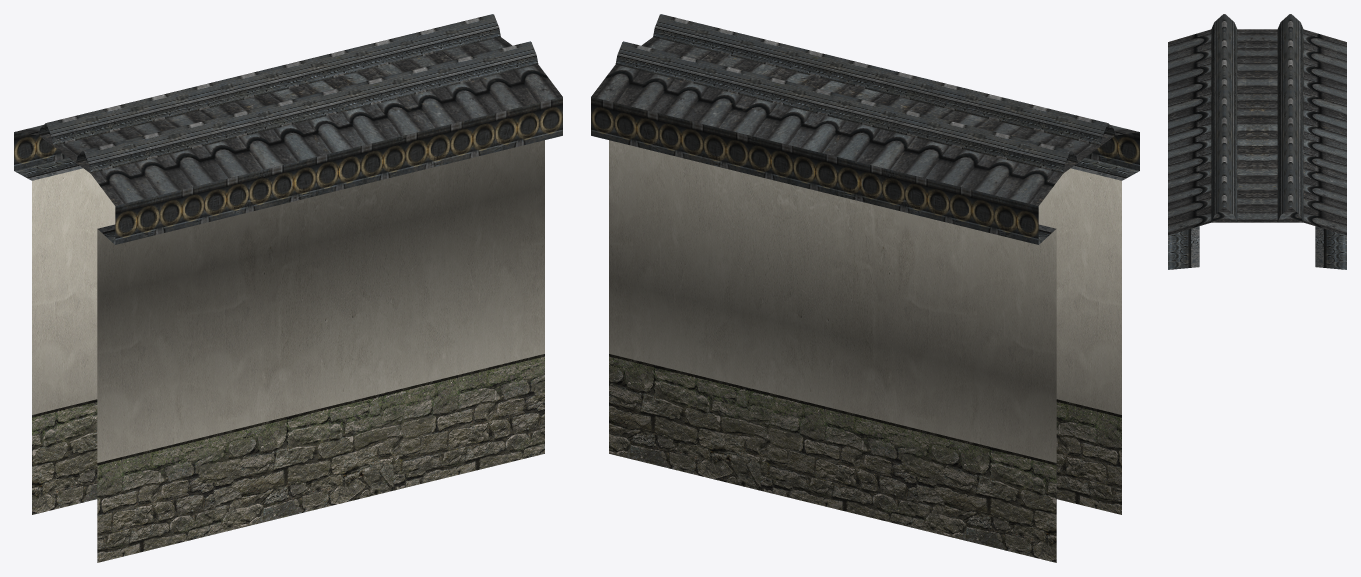
Rendered from japanese_wall_middle.FBX.
The picture shows the model from 3 angles, left to right: view 1: azimuth 30°, elevation 25°; view 2: azimuth 150°, elevation 25°; view 3: azimuth 270°, elevation 25°; orthographic projection. The views are drawn at different scales.
Parts seen in each view (by area): view 1: japanese_wall_middle; view 2: japanese_wall_middle; view 3: japanese_wall_middle.
Part boxes in pixels (x1,y1,x2,y2): japanese_wall_middle: (14, 14, 562, 562); japanese_wall_middle: (591, 14, 1139, 562); japanese_wall_middle: (1168, 14, 1346, 269).
Size of the model in its own units: 400 by 343 by 156.
